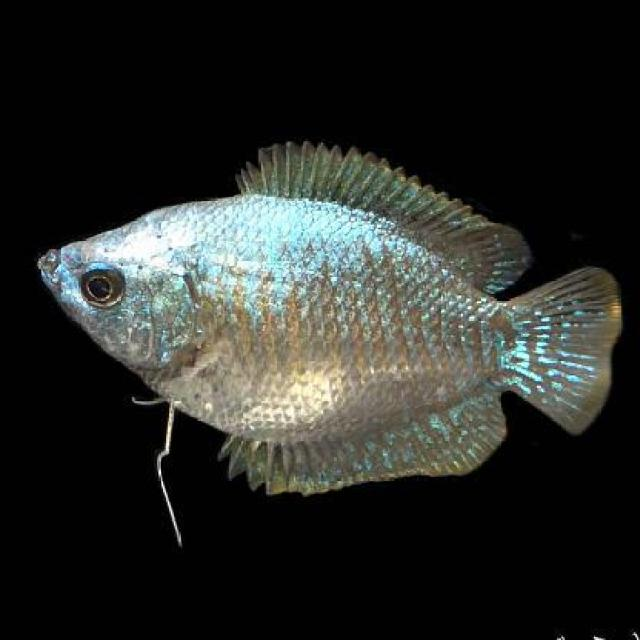Gourami: (28, 132, 637, 502)
